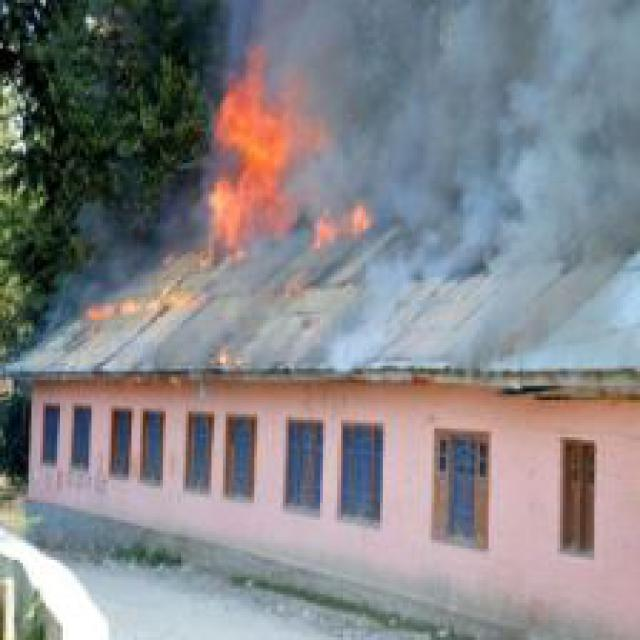fire: (169, 43, 380, 277)
